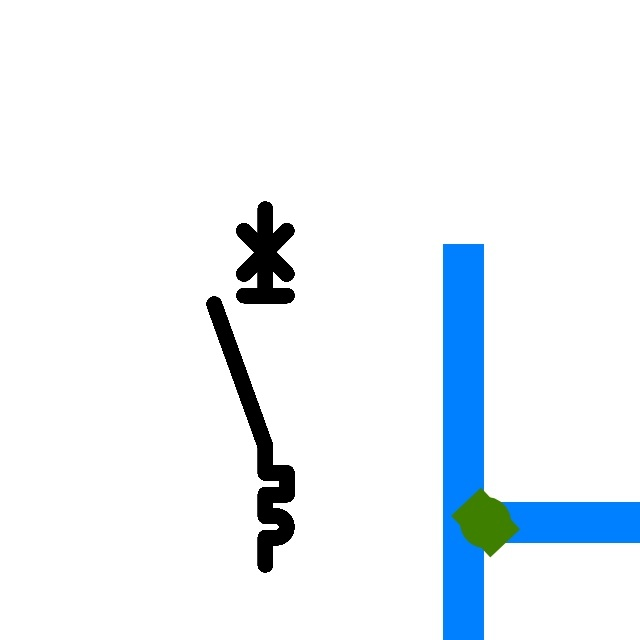interruptor_termomagnetico: (205, 200, 296, 574)
